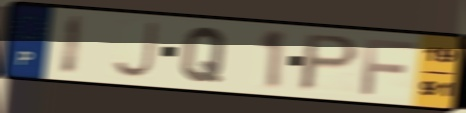1: (257, 28, 288, 91)
F: (359, 37, 420, 97)
I: (58, 12, 87, 78)
J: (109, 19, 161, 79)
P: (295, 31, 364, 93)
Q: (179, 25, 230, 84)
